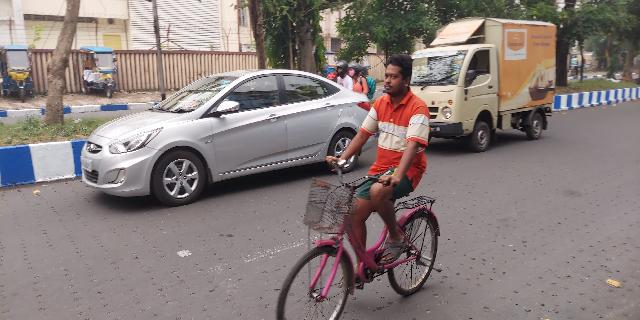Car: (72, 64, 375, 199)
Cycle: (274, 61, 444, 320)
Minitruck: (400, 22, 560, 151)
